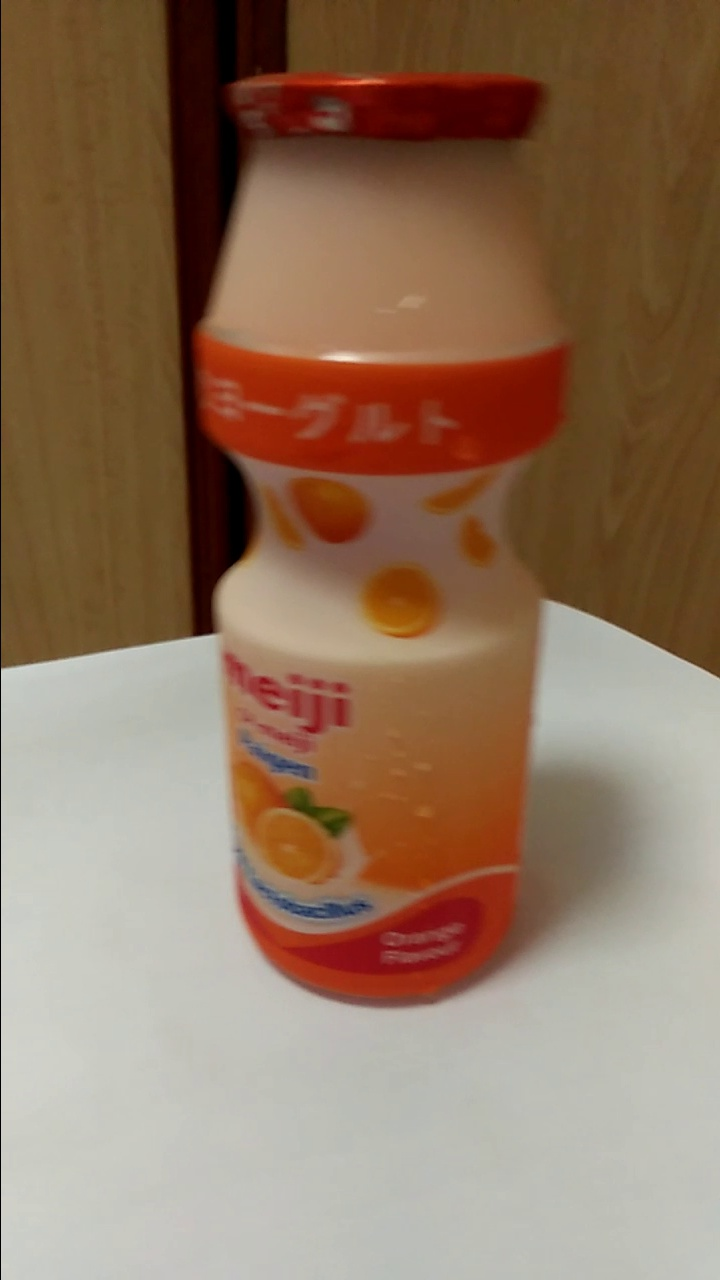milk: (211, 78, 543, 1000)
